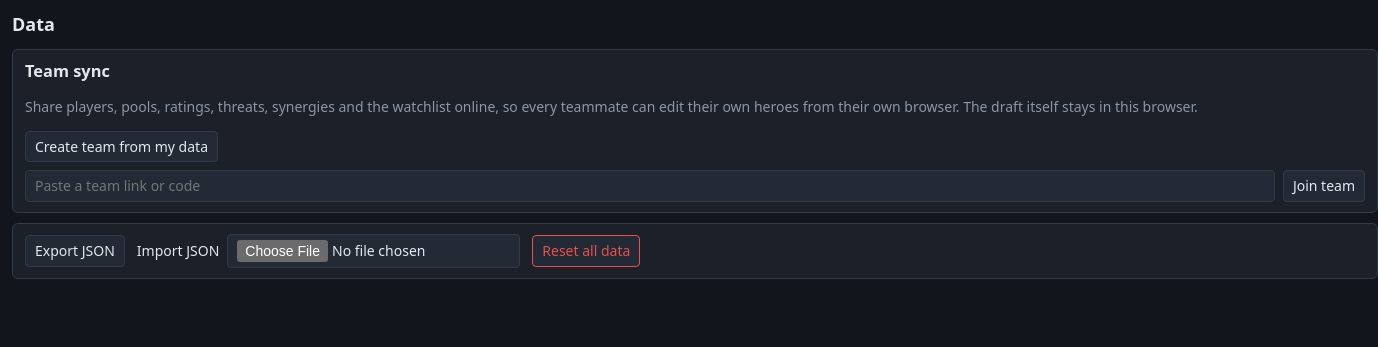
Test: Team sync card › an invalid code is rejected before connecting
The image size is (1378, 347).
Step 1. Type "nope" into the field labelled "team link or code" → (650, 186), box [25,170,1275,202]
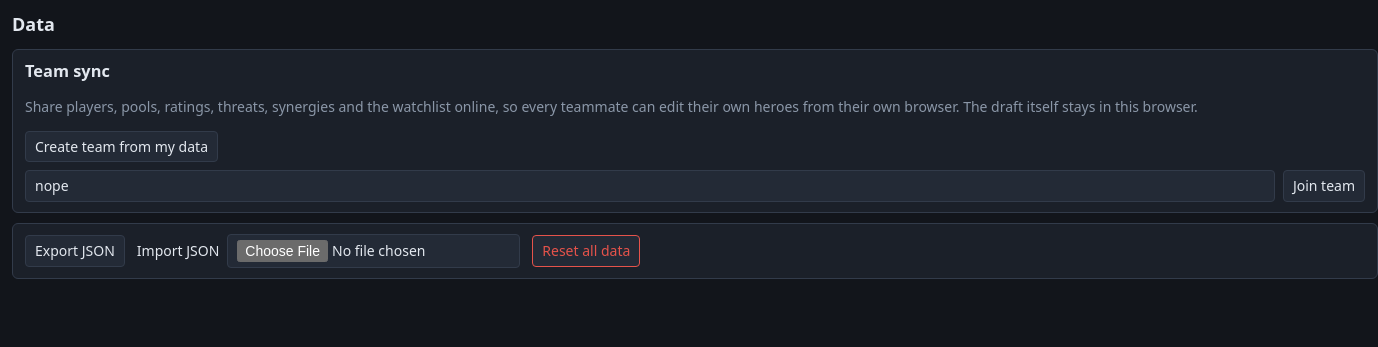
Step 2. Click the button "Join team" → (1324, 186), box [1283,170,1365,202]
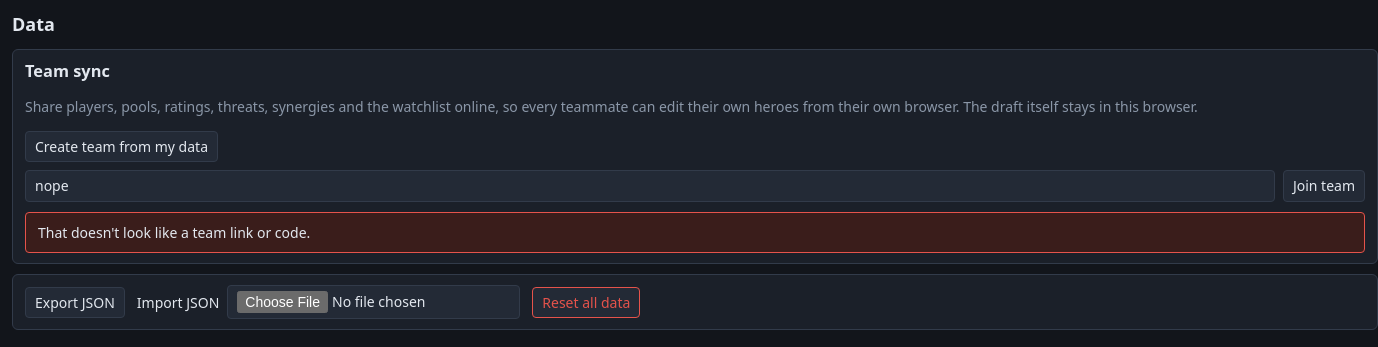
expect the message shows "doesn't look like a team link": met, box [38,223,310,242]
